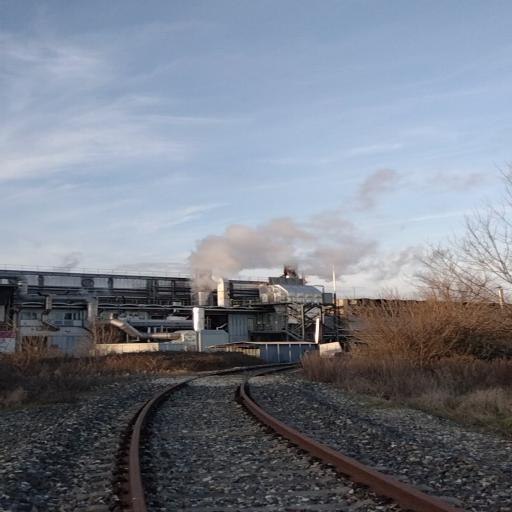leakage: (175, 169, 502, 310)
